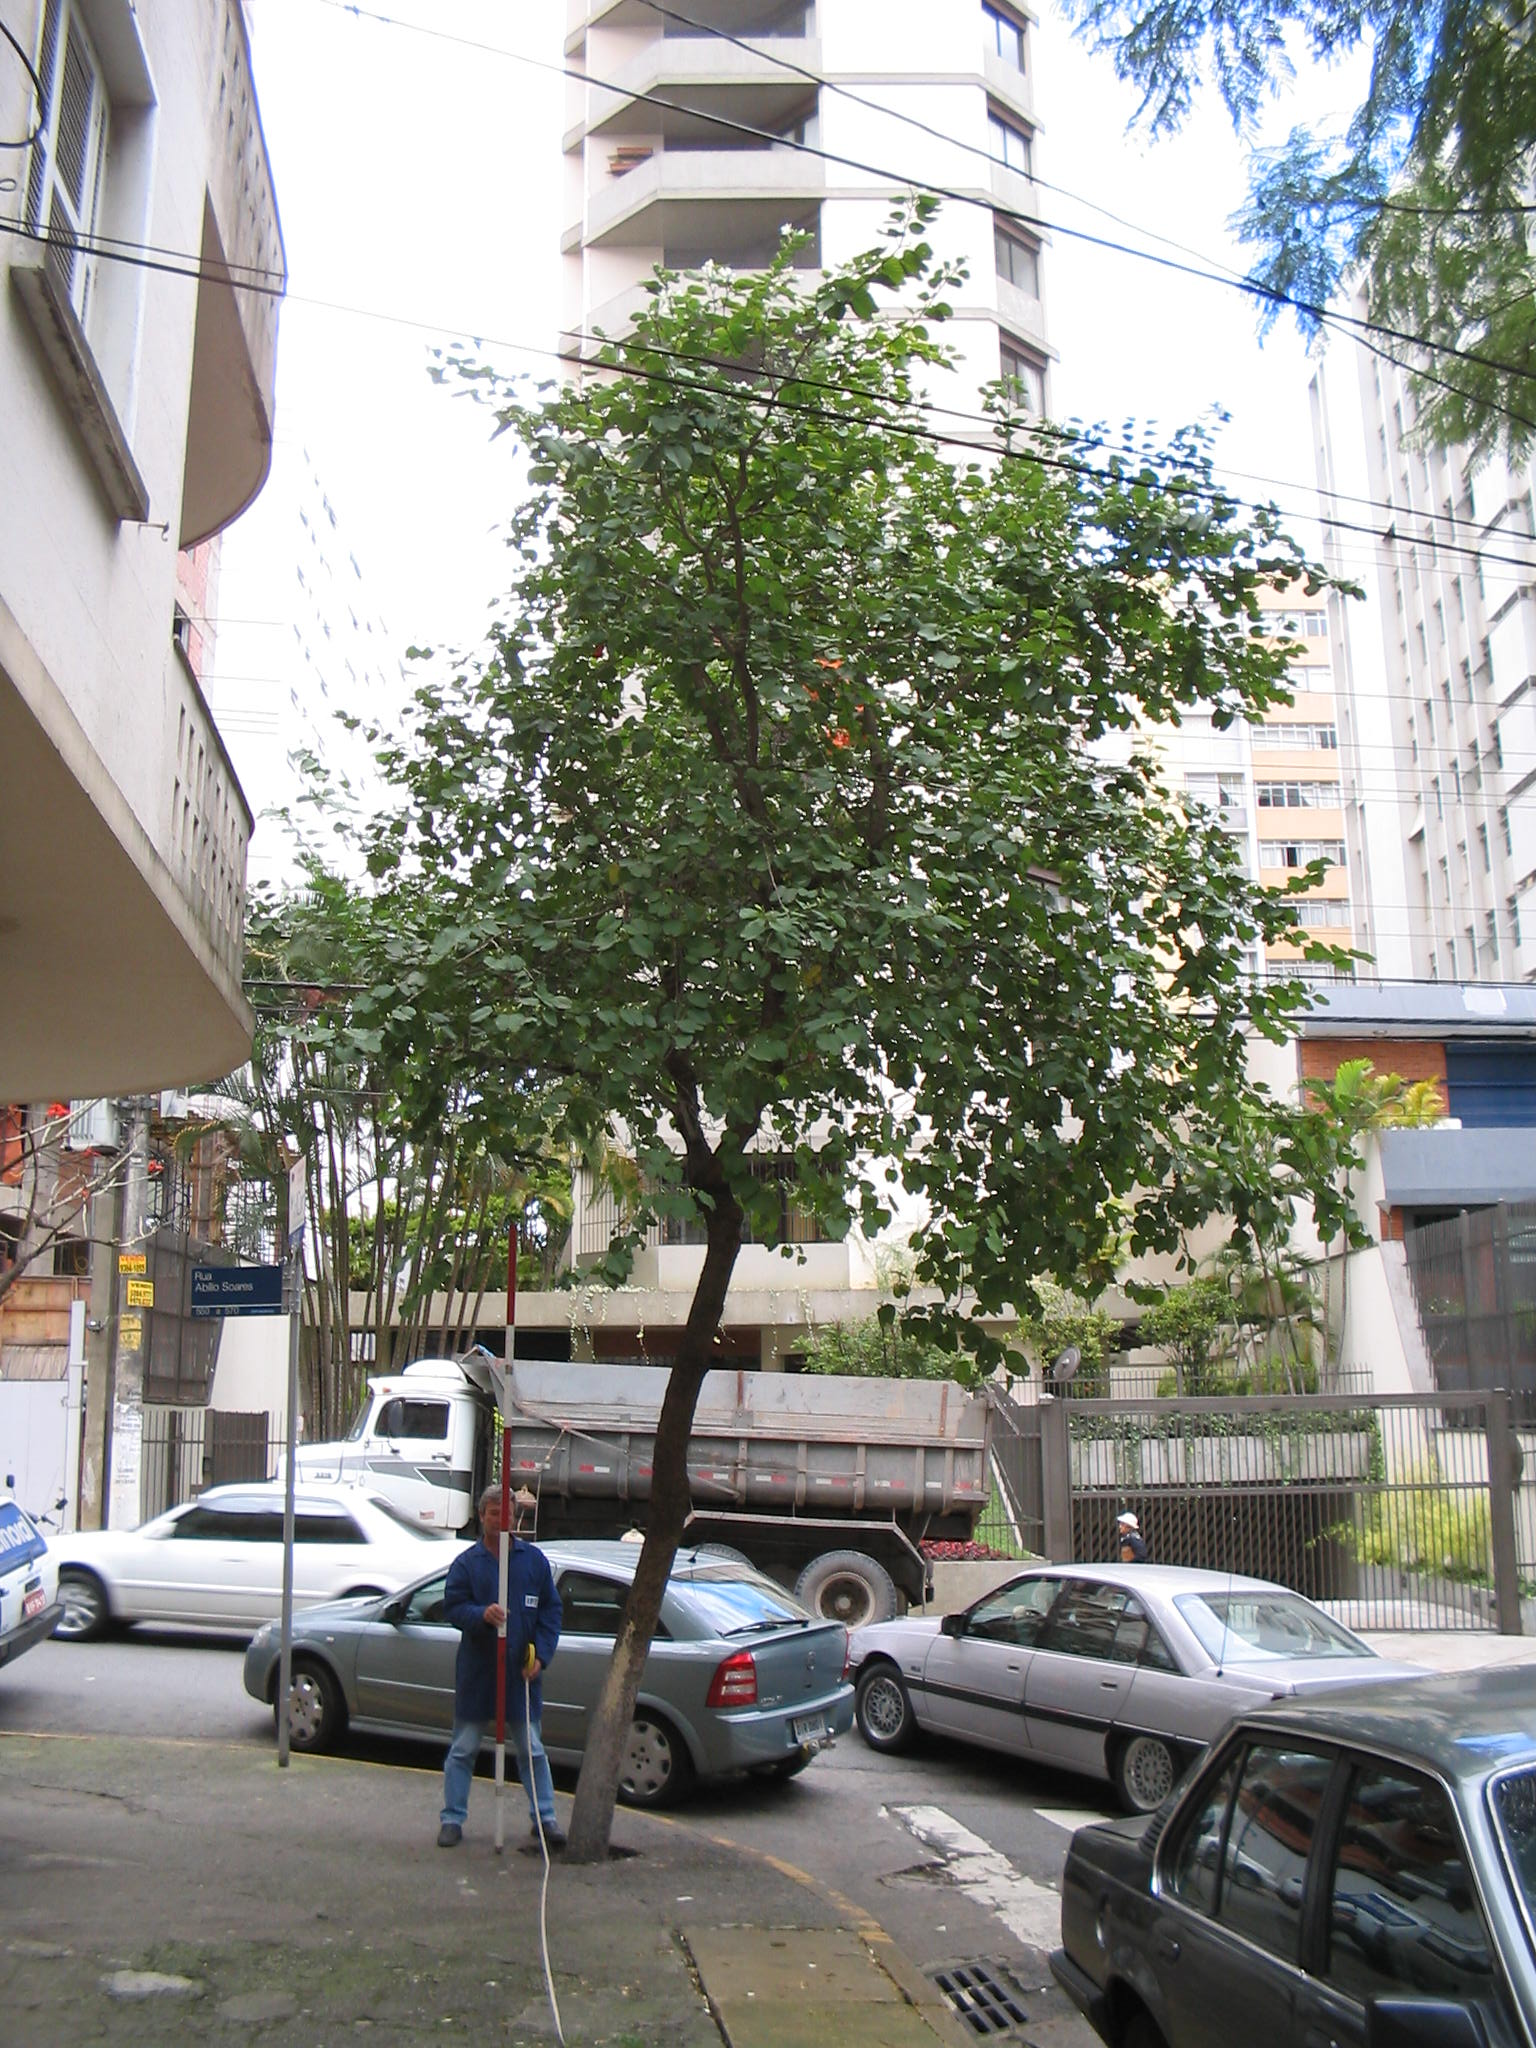crown: (265, 203, 1410, 1413)
stem: (536, 1213, 789, 1863)
stick: (481, 1224, 544, 1859)
tree: (253, 200, 1410, 1866)
